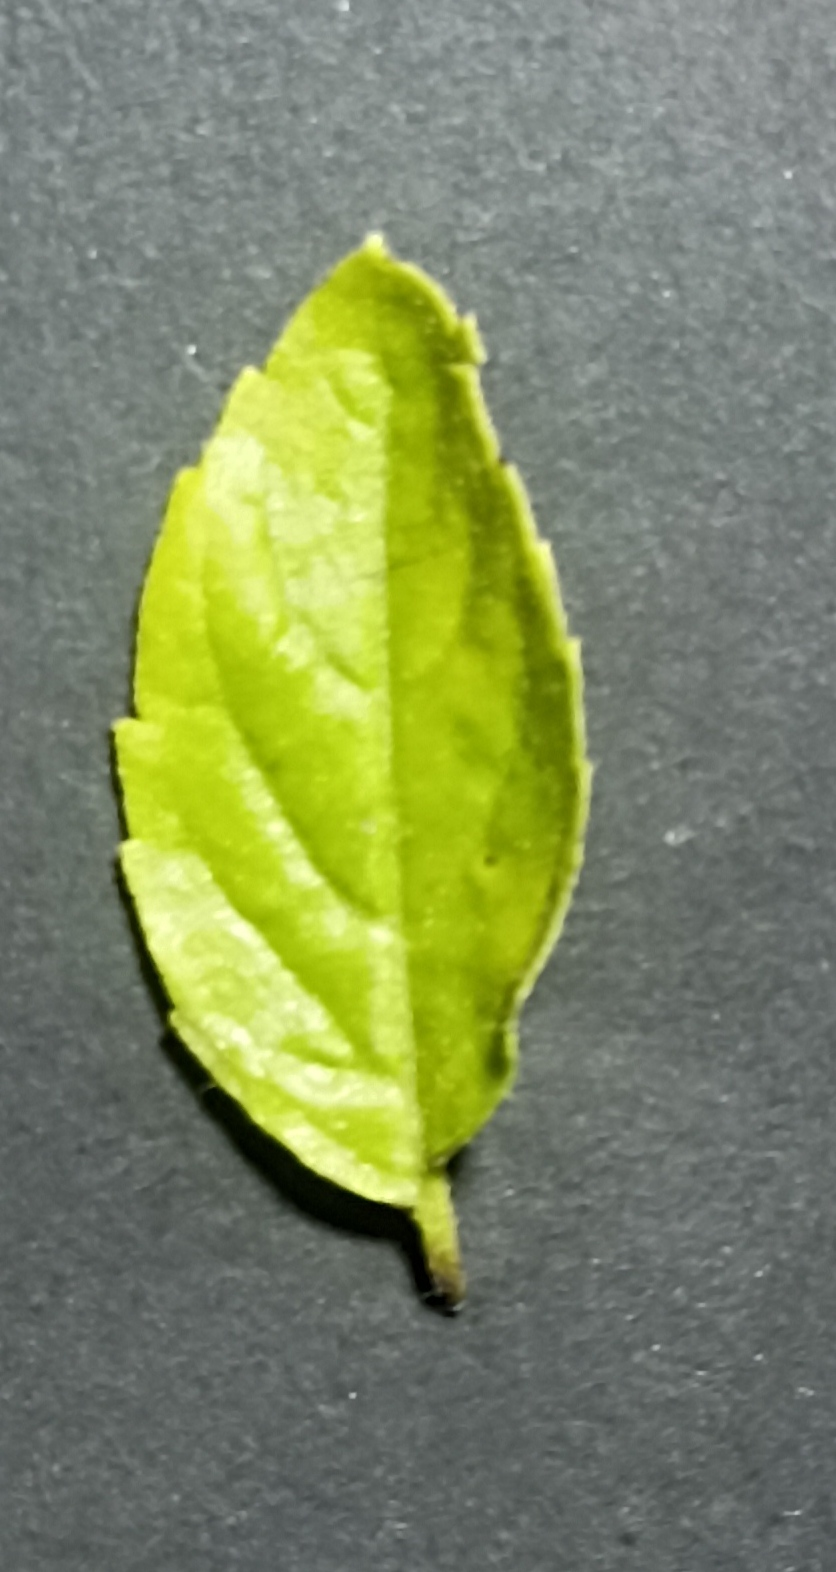Healthy: (100, 220, 603, 1208)
